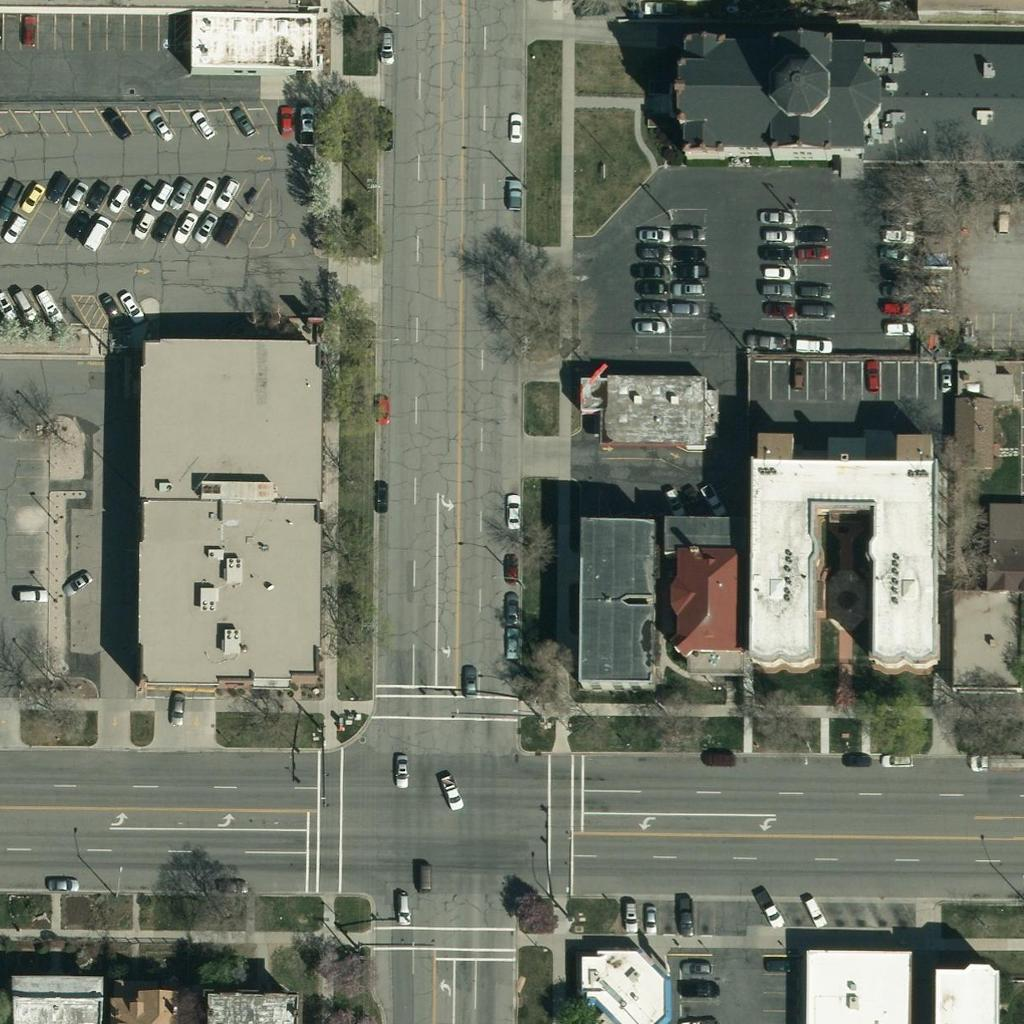car: (13, 17, 47, 51), (368, 25, 402, 59), (267, 104, 301, 138), (267, 105, 301, 139), (288, 105, 322, 139), (226, 106, 260, 140), (144, 108, 178, 142), (186, 108, 220, 142), (102, 109, 136, 143), (497, 110, 531, 144), (366, 111, 400, 145), (41, 166, 75, 200), (165, 174, 199, 208), (211, 174, 245, 208), (80, 176, 114, 210), (145, 177, 179, 211), (187, 177, 221, 211), (58, 178, 92, 212), (124, 178, 158, 212), (16, 179, 50, 213), (101, 180, 135, 214), (498, 181, 532, 215), (756, 198, 790, 232), (879, 199, 913, 233), (984, 201, 1018, 235), (61, 203, 95, 237), (127, 204, 161, 238), (146, 207, 180, 241), (169, 207, 203, 241), (187, 209, 221, 243), (80, 212, 114, 246), (211, 215, 245, 249), (669, 215, 703, 249), (795, 215, 829, 249), (633, 216, 667, 250), (760, 217, 794, 251), (879, 217, 913, 251), (794, 234, 828, 268), (876, 234, 910, 268), (637, 235, 671, 269), (759, 235, 793, 269), (671, 236, 705, 270), (635, 250, 669, 284), (671, 253, 705, 287), (756, 254, 790, 288), (635, 269, 669, 303), (671, 271, 705, 305), (757, 271, 791, 305), (877, 272, 911, 306), (796, 273, 830, 307), (8, 288, 42, 322), (113, 288, 147, 322), (636, 288, 670, 322), (34, 289, 68, 323), (666, 289, 700, 323), (876, 290, 910, 324), (799, 291, 833, 325), (96, 292, 130, 326), (630, 308, 664, 342), (875, 309, 909, 343), (746, 323, 780, 357), (794, 329, 828, 363), (779, 357, 813, 391), (854, 360, 888, 394), (929, 360, 963, 394), (365, 390, 399, 424), (363, 478, 397, 512), (696, 483, 730, 517), (655, 484, 689, 518), (496, 493, 530, 527), (494, 554, 528, 588), (59, 564, 93, 598), (14, 577, 48, 611), (493, 592, 527, 626), (495, 625, 529, 659), (453, 663, 487, 697), (160, 691, 194, 725), (698, 741, 732, 775), (699, 741, 733, 775), (840, 742, 874, 776), (878, 743, 912, 777), (384, 749, 418, 783), (434, 775, 468, 809), (407, 857, 441, 891), (45, 867, 79, 901), (213, 868, 247, 902), (387, 889, 421, 923), (752, 892, 786, 926), (797, 893, 831, 927), (611, 896, 645, 930), (633, 899, 667, 933), (668, 901, 702, 935), (760, 947, 794, 981), (681, 950, 715, 984), (680, 970, 714, 1004), (0, 209, 32, 243), (639, 0, 673, 24), (0, 186, 24, 220), (0, 287, 22, 321)
